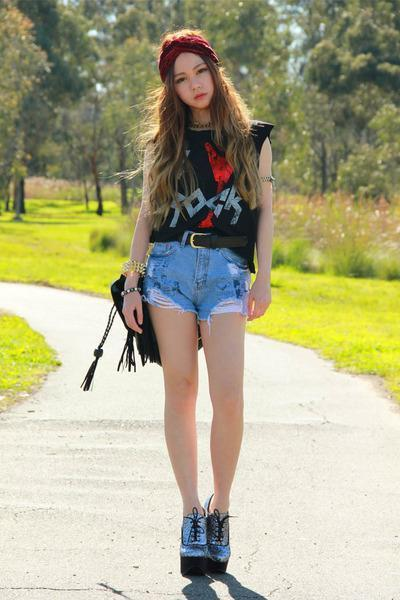bag: (111, 276, 161, 365)
hat: (159, 27, 217, 94)
shirt: (163, 120, 273, 273)
shoe: (180, 509, 232, 578)
shorts: (139, 231, 247, 320)
